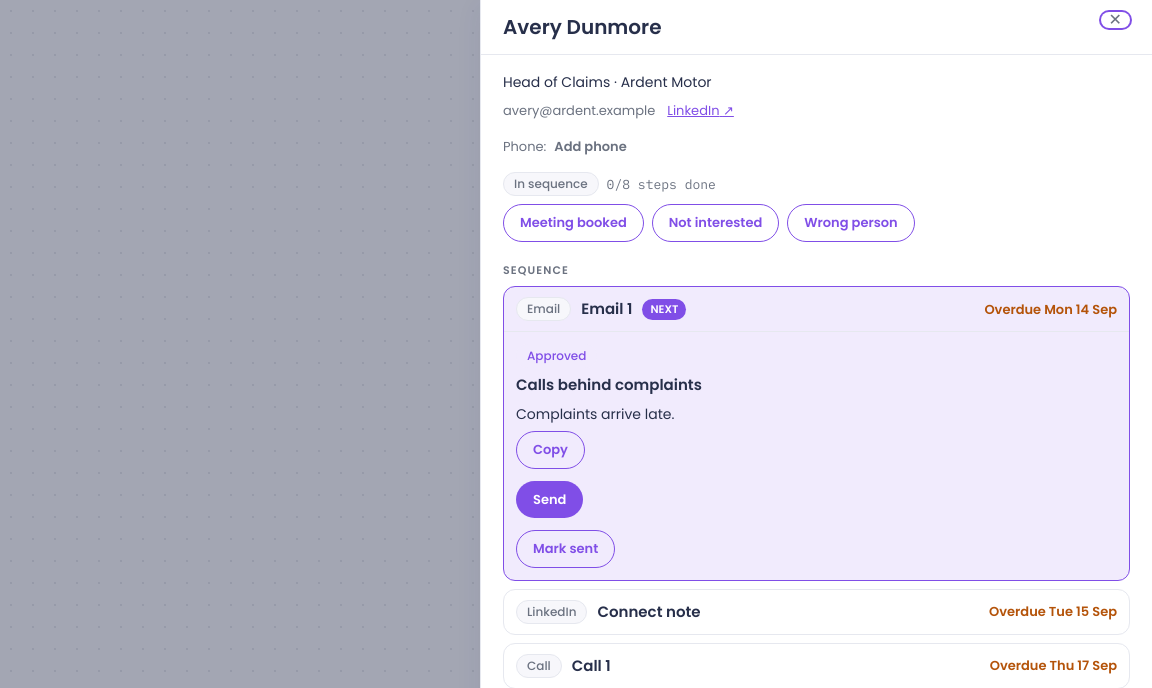
the drawer's Send › shows a refused send beside its step, not only at the top of the drawer
What coordinates should you click on to do the following:
click the button "Send"
I would click on:
 (550, 500)
Its box is [516,481,583,518].
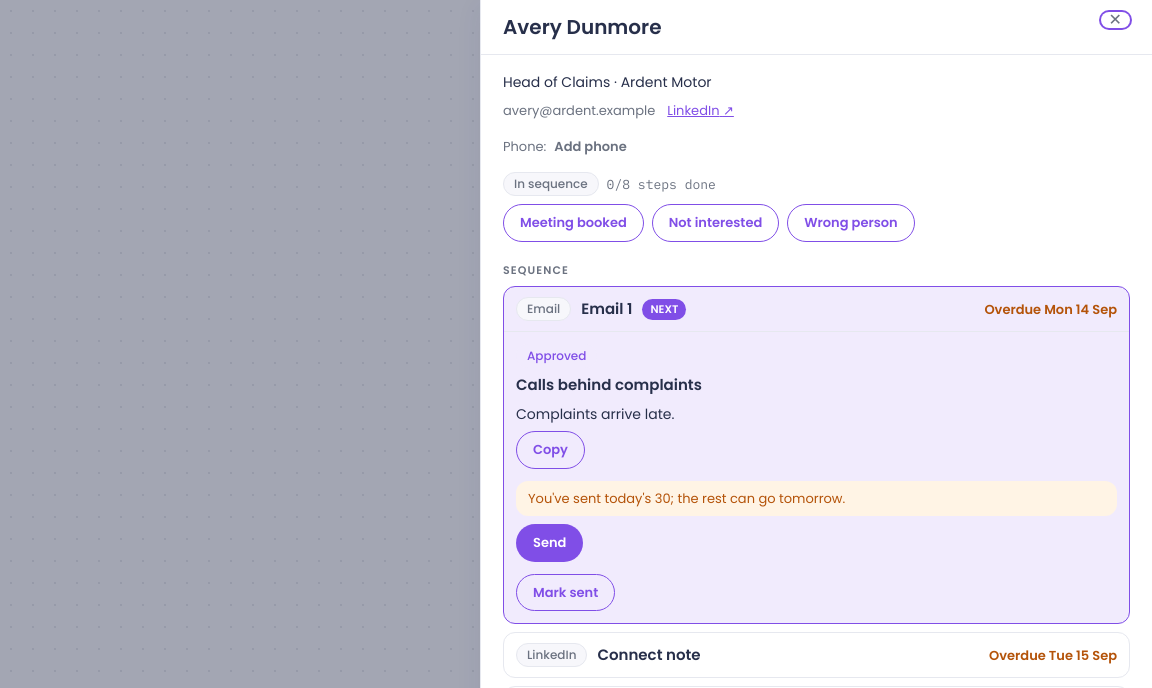
Expected: the text with test id "drawer-send-note" reads "You've sent today's 30; the rest can go tomorrow.", [528,489,845,508]
